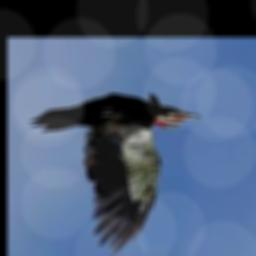Woodpecker: (29, 95, 203, 254)
